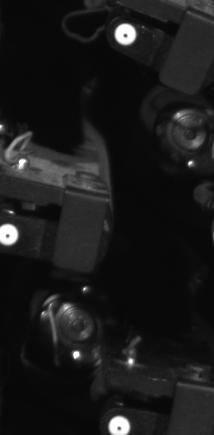fiber: (102, 407, 138, 435), (113, 19, 138, 52), (1, 216, 22, 255)
